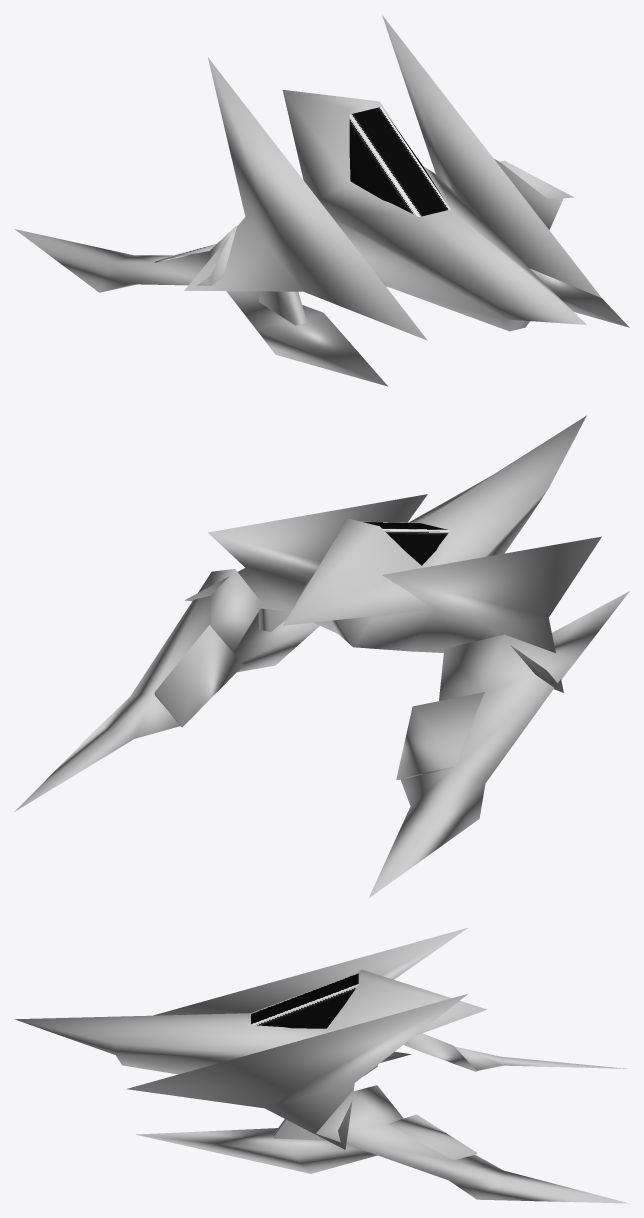
3 renders of one model, top to bottom at view 1: azimuth 30°, elevation 25°; view 2: azimuth 150°, elevation 25°; view 3: azimuth 270°, elevation 25°, orthographic. The views are drawn at different scales.
Parts seen in each view (by area): view 1: Arwing.002; view 2: Arwing.002; view 3: Arwing.002.
Part boxes in pixels (x1,y1,x2,y2): Arwing.002: (14,15,629,386); Arwing.002: (14,415,629,897); Arwing.002: (15,928,629,1203).
Size of the model in its own units: 3.78 by 2.15 by 6.82.
